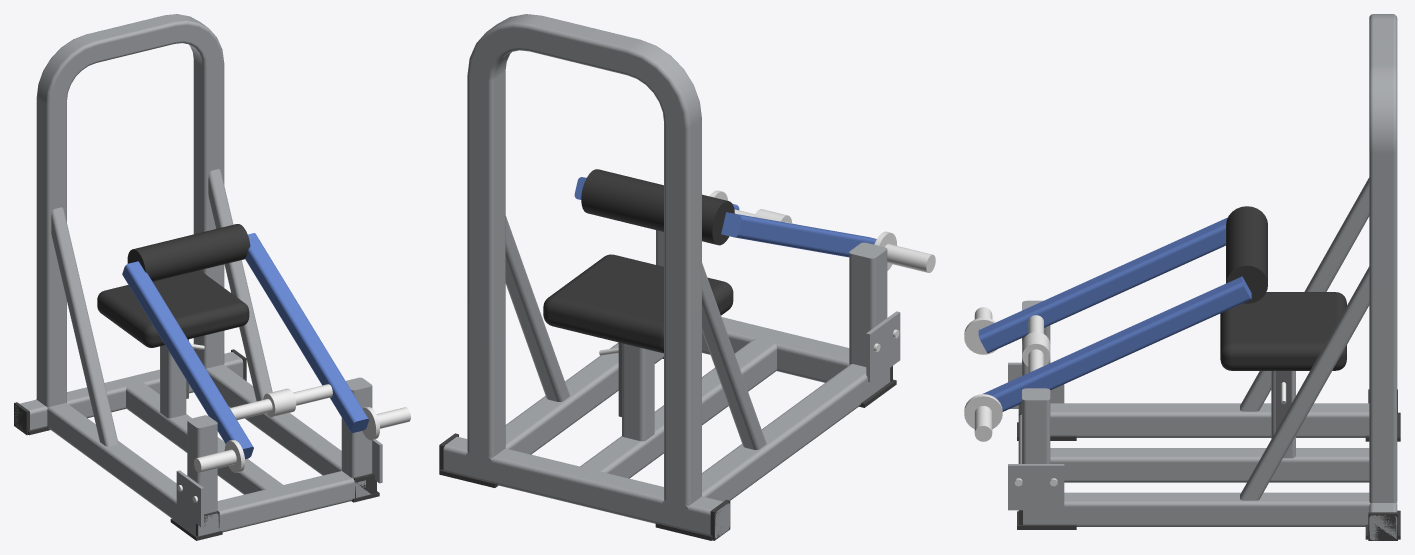
3 renders of one model, left to right at view 1: azimuth 30°, elevation 25°; view 2: azimuth 150°, elevation 25°; view 3: azimuth 270°, elevation 25°, orthographic. The views are drawn at different scales.
Visible parts, largest first — view 1: mast_tube, base, lever_bar (×2), frame, seat_pad, lever_support, lever_roller, lever_tail (×2), lever_horn (×2), seat_post, gusset, lever_axle (+1 smaller); view 2: mast_tube, base, seat_pad, frame, lever_support, lever_roller, lever_bar, seat_post, gusset, lever_horn; view 3: base, mast_tube, lever_bar (×2), seat_pad, frame, lever_roller, gusset (×2), lever_support, lever_tail (×2), lever_horn (×2), seat_adjuster, lever_hub (+3 smaller).
Part boxes in pixels (<box>): mast_tube: <box>36,14,224,407</box>; base: <box>14,352,370,536</box>; lever_bar (×2): <box>122,233,345,419</box>; frame: <box>51,169,272,446</box>; seat_pad: <box>97,270,249,347</box>; lever_support: <box>187,377,372,514</box>; lever_roller: <box>127,224,250,281</box>; lever_tail (×2): <box>214,381,368,459</box>; lever_horn (×2): <box>194,407,410,472</box>; seat_post: <box>160,345,186,418</box>; gusset: <box>176,470,203,526</box>; lever_axle: <box>230,384,332,420</box>; mast_tube: <box>467,14,701,527</box>; base: <box>443,317,890,538</box>; seat_pad: <box>543,254,733,353</box>; frame: <box>505,216,766,449</box>; lever_support: <box>656,230,887,382</box>; lever_roller: <box>581,169,734,245</box>; lever_bar: <box>721,212,854,256</box>; seat_post: <box>622,343,654,441</box>; gusset: <box>866,311,900,382</box>; lever_horn: <box>874,231,935,272</box>; base: <box>1018,403,1397,540</box>; mast_tube: <box>1369,14,1397,503</box>; lever_bar (×2): <box>1031,217,1251,390</box>; seat_pad: <box>1220,292,1346,370</box>; frame: <box>1240,177,1369,500</box>; lever_roller: <box>1226,206,1267,303</box>; gusset (×2): <box>1008,362,1064,510</box>; lever_support: <box>1022,300,1050,463</box>; lever_tail (×2): <box>978,306,1035,411</box>; lever_horn (×2): <box>964,307,1002,441</box>; seat_adjuster: <box>1275,371,1291,443</box>; lever_hub: <box>1022,332,1050,366</box>.
Bounding box in the file's own units: 0.84 × 1.37 × 1.24.
